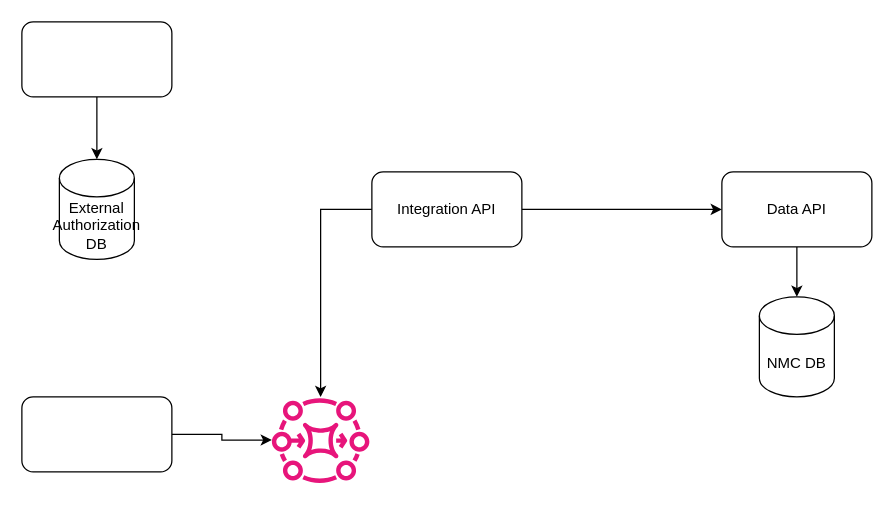
This 894x505 diagram has some shape labels left out. Here are the shapes that lost their labels. From the top down, the box of each, then its label:
(21, 21, 172, 97): External Authorization
(21, 396, 172, 472): External Communication Service
